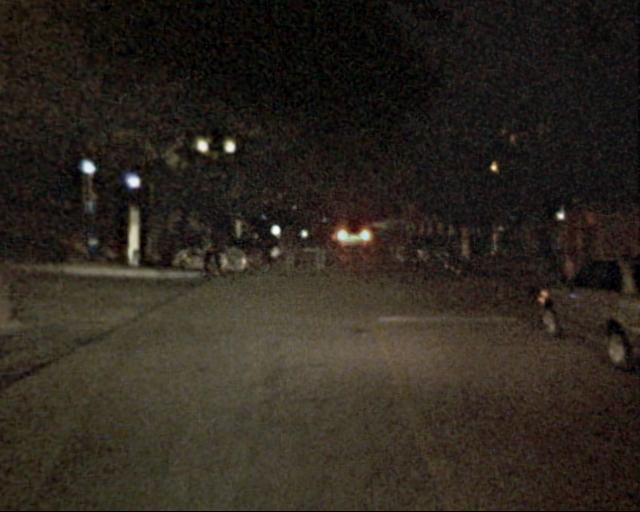person: (197, 218, 223, 280), (310, 223, 331, 277), (253, 219, 275, 268), (279, 225, 300, 274)
